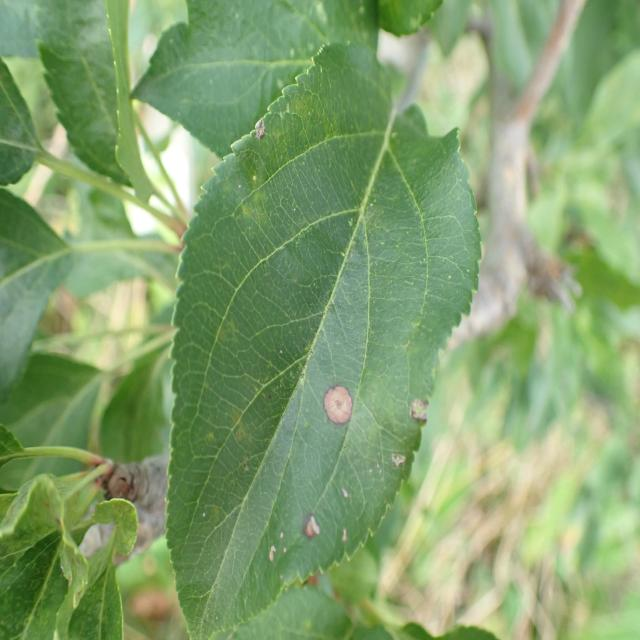Black Rot: (407, 373, 440, 499), (304, 367, 358, 439), (239, 98, 273, 162), (296, 498, 328, 552), (384, 428, 407, 490)
